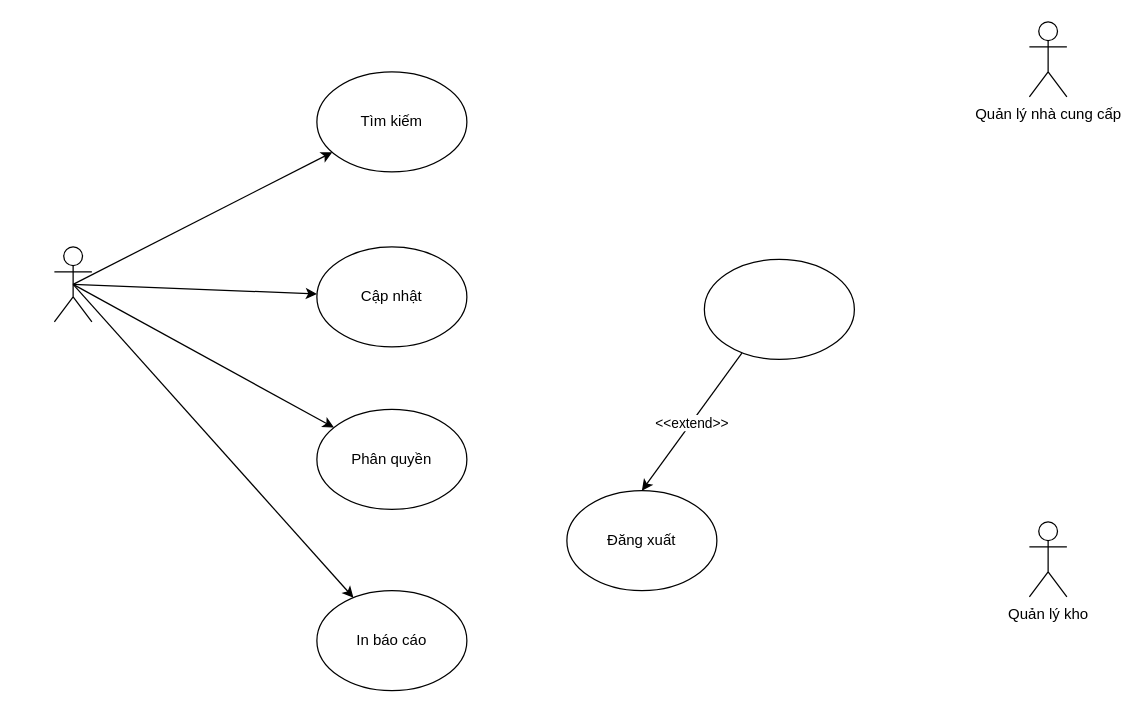
The diagram is 1143 pixels wide and 713 high, and some of its shapes have lost their labels. The centre of each missing label's shape, as x and y in pixels:
"Quản lý siêu thị" goes at point 72,284.
"Đăng nhập" goes at point 778,308.
